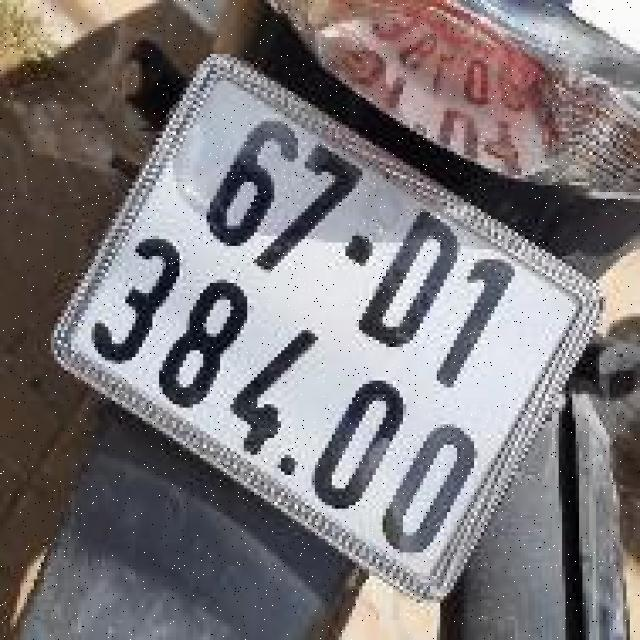0: (364, 404, 503, 573), (298, 362, 428, 527)
1: (407, 243, 533, 410)
3: (82, 222, 198, 376)
4: (212, 310, 346, 470)
6: (195, 106, 314, 261)
7: (239, 135, 376, 291)
8: (136, 261, 273, 427)
D: (353, 202, 476, 360)
